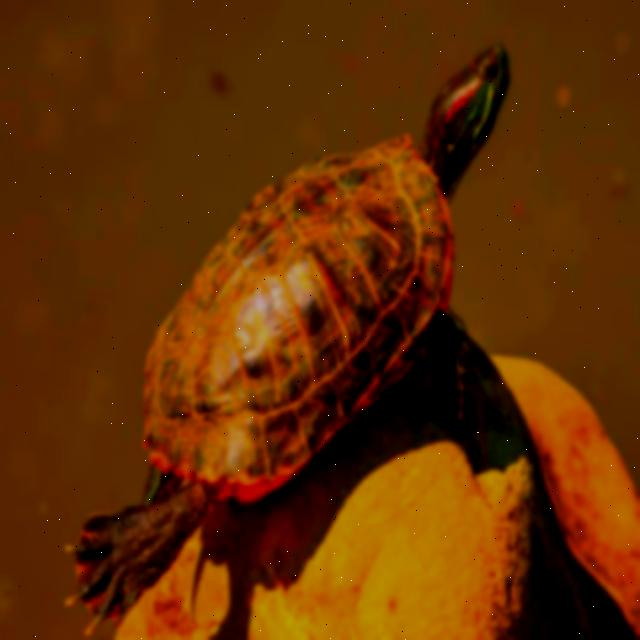tortoise: (70, 39, 522, 598)
